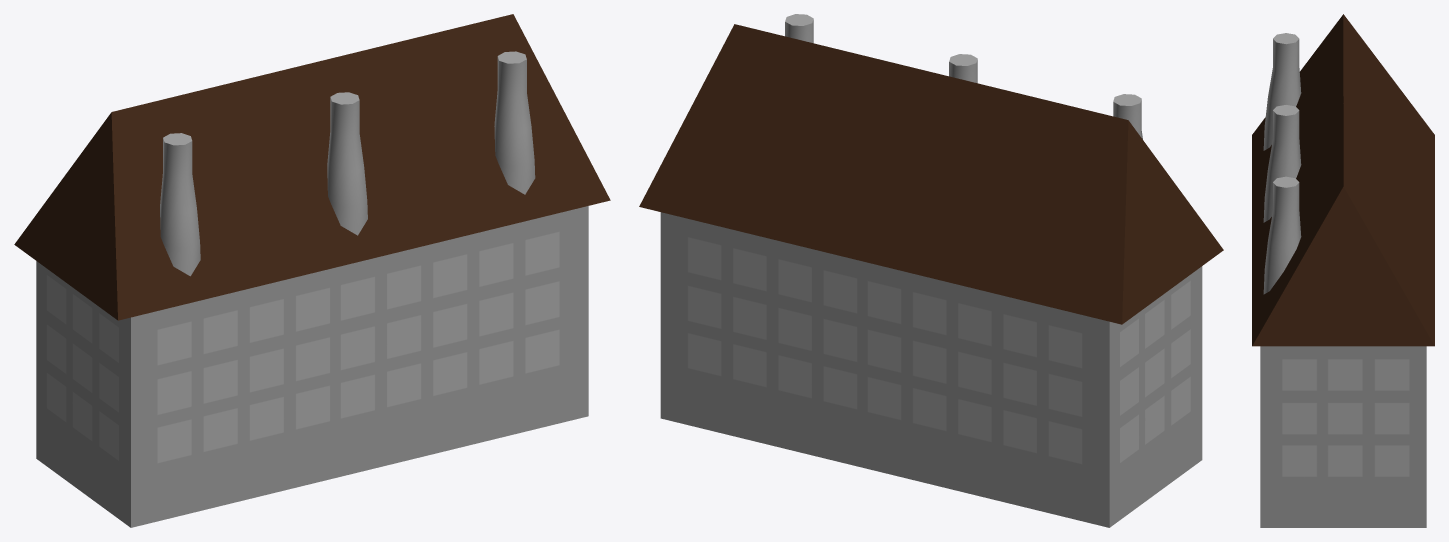
File: londoneye_haus2.fbx
The picture shows the model from 3 angles, left to right: view 1: azimuth 30°, elevation 25°; view 2: azimuth 150°, elevation 25°; view 3: azimuth 270°, elevation 25°; orthographic projection. The views are drawn at different scales.
Visible parts, largest first — view 1: Würfel_2, Polygon, Zylinder_1, Zylinder, Zylinder_2; view 2: Würfel_2, Polygon, Zylinder, Zylinder_2, Zylinder_1; view 3: Polygon, Würfel_2, Zylinder_2, Zylinder, Zylinder_1.
Boxes of the visible parts, <box> form: Würfel_2: <box>36,206,588,527</box>; Polygon: <box>14,14,610,320</box>; Zylinder_1: <box>327,92,367,235</box>; Zylinder: <box>160,133,200,276</box>; Zylinder_2: <box>494,51,535,194</box>; Würfel_2: <box>660,212,1202,527</box>; Polygon: <box>639,24,1223,324</box>; Zylinder: <box>1113,94,1142,139</box>; Zylinder_2: <box>785,14,813,43</box>; Zylinder_1: <box>949,54,977,83</box>; Polygon: <box>1252,14,1434,346</box>; Würfel_2: <box>1260,346,1426,527</box>; Zylinder_2: <box>1263,176,1301,294</box>; Zylinder: <box>1263,33,1301,150</box>; Zylinder_1: <box>1263,105,1301,222</box>.
Bounding box in the file's own units: 646 × 469 × 236.
Materials: 3 (1 with a texture image).
